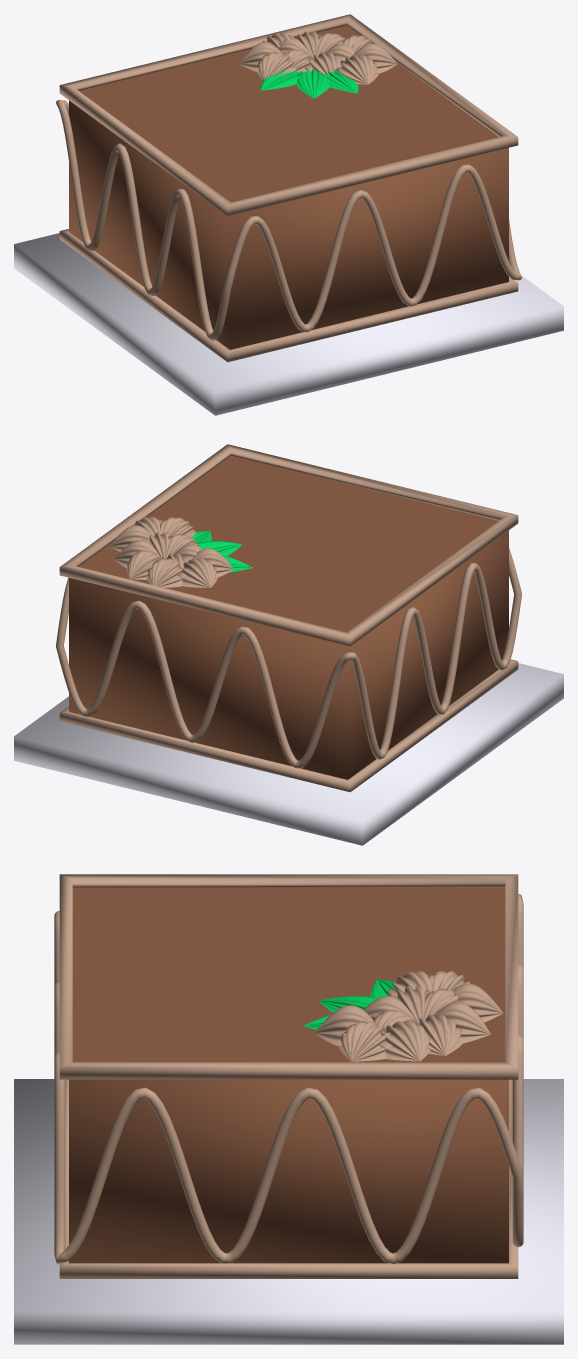
Rendered from square_chocolate_style2.glb.
The picture shows the model from 3 angles, top to bottom: view 1: azimuth 30°, elevation 25°; view 2: azimuth 150°, elevation 25°; view 3: azimuth 270°, elevation 25°; orthographic projection. The views are drawn at different scales.
Visible parts, largest first — view 1: CakeBase, CakeTopCircle, IcingStand, WaveIcing, IcingRing, IcingRing.001, leaf.001, design10, design11, design7, design12, design3; view 2: CakeBase, CakeTopCircle, IcingStand, WaveIcing, IcingRing, IcingRing.001, design12, design9, leaf.001, design4, design8, design11 (+2 smaller); view 3: CakeBase, CakeTopCircle, IcingStand, IcingRing, WaveIcing, IcingRing.001, design7, design8, design5, design4, design10, leaf.001 (+5 smaller).
Part boxes in pixels (box(x1,y1,x2,y2)): CakeBase: box(69, 100, 508, 349); CakeTopCircle: box(79, 25, 498, 202); IcingStand: box(14, 233, 563, 415); WaveIcing: box(56, 99, 521, 340); IcingRing: box(59, 14, 518, 216); IcingRing.001: box(59, 229, 518, 362); leaf.001: box(260, 67, 358, 98); design10: box(336, 54, 378, 84); design11: box(257, 52, 297, 79); design7: box(354, 43, 397, 73); design12: box(239, 42, 280, 71); design3: box(304, 52, 341, 75); CakeBase: box(69, 530, 508, 779); CakeTopCircle: box(79, 455, 498, 632); IcingStand: box(14, 663, 563, 845); WaveIcing: box(56, 548, 521, 768); IcingRing: box(59, 444, 518, 646); IcingRing.001: box(59, 659, 518, 792); design12: box(178, 558, 217, 587); design9: box(146, 558, 186, 587); leaf.001: box(191, 531, 252, 572); design4: box(126, 550, 162, 579); design8: box(110, 525, 153, 551); design11: box(192, 548, 232, 577); CakeBase: box(69, 1079, 508, 1263); CakeTopCircle: box(72, 887, 505, 1062); IcingStand: box(14, 1079, 563, 1344); IcingRing: box(59, 874, 518, 1079); WaveIcing: box(54, 894, 523, 1264); IcingRing.001: box(59, 1079, 518, 1278); design7: box(339, 1021, 392, 1061); design8: box(379, 1020, 430, 1061); design5: box(419, 1014, 462, 1055); design4: box(433, 1002, 490, 1043); design10: box(314, 1005, 373, 1046); leaf.001: box(303, 979, 396, 1029).
Size of the model in its own units: 3 by 1.69 by 3.
